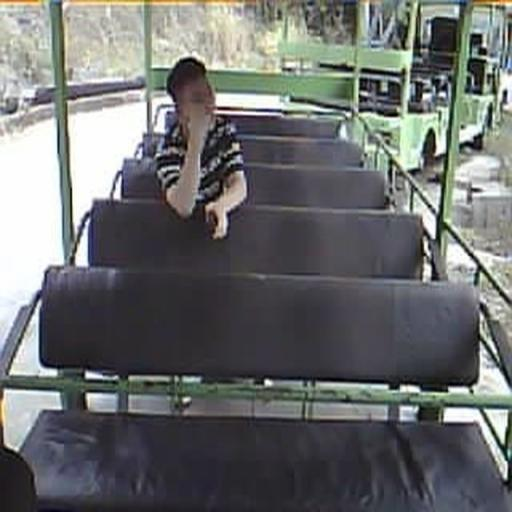persona: (154, 55, 248, 240)
